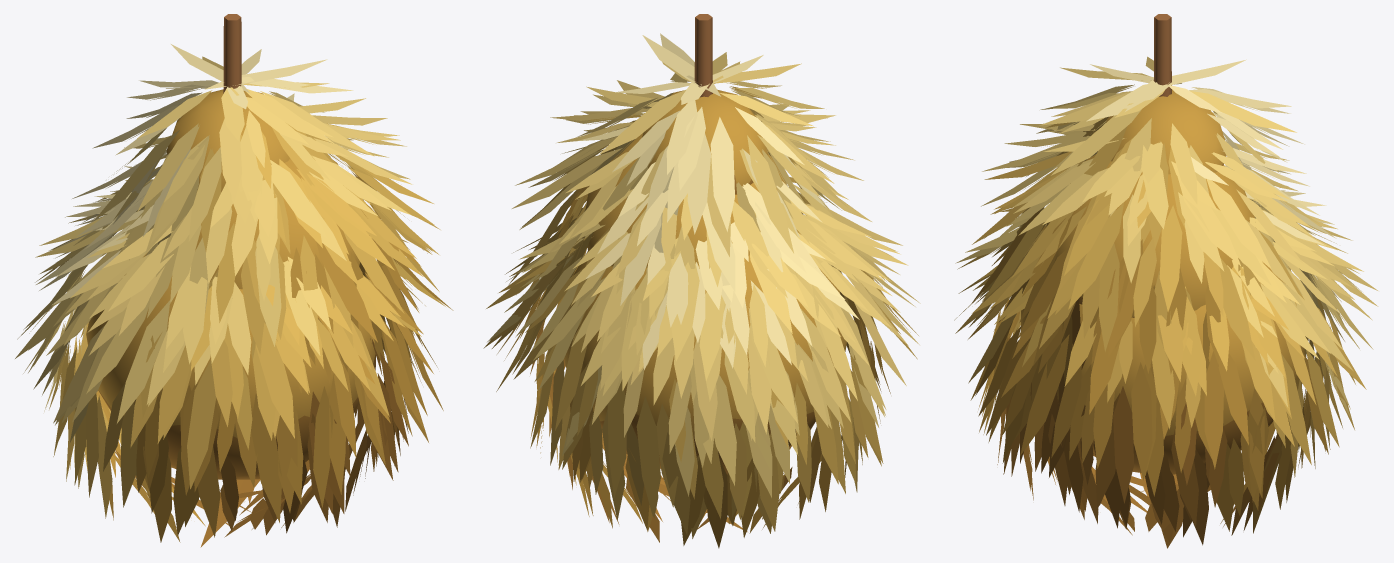
File: Haystack.glb
3 renders of one model, left to right at view 1: azimuth 30°, elevation 25°; view 2: azimuth 150°, elevation 25°; view 3: azimuth 270°, elevation 25°, orthographic.
Parts seen in each view (by area): view 1: Body; view 2: Body; view 3: Body.
Part boxes in pixels (bbox=[...]): Body: bbox=[15, 14, 453, 547]; Body: bbox=[483, 14, 920, 548]; Body: bbox=[954, 14, 1378, 548].
Size of the model in its own units: 3.95 by 5.21 by 3.95.
1 material, 1 textured.
